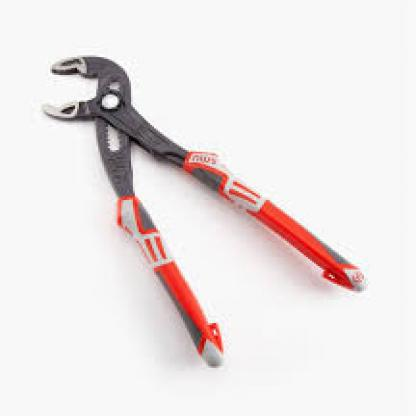Wrench: (40, 52, 368, 369)
